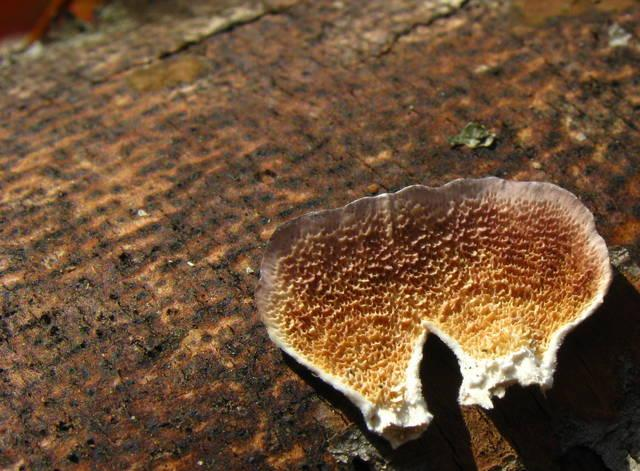Non-edible Mushroom: (253, 174, 614, 449)
